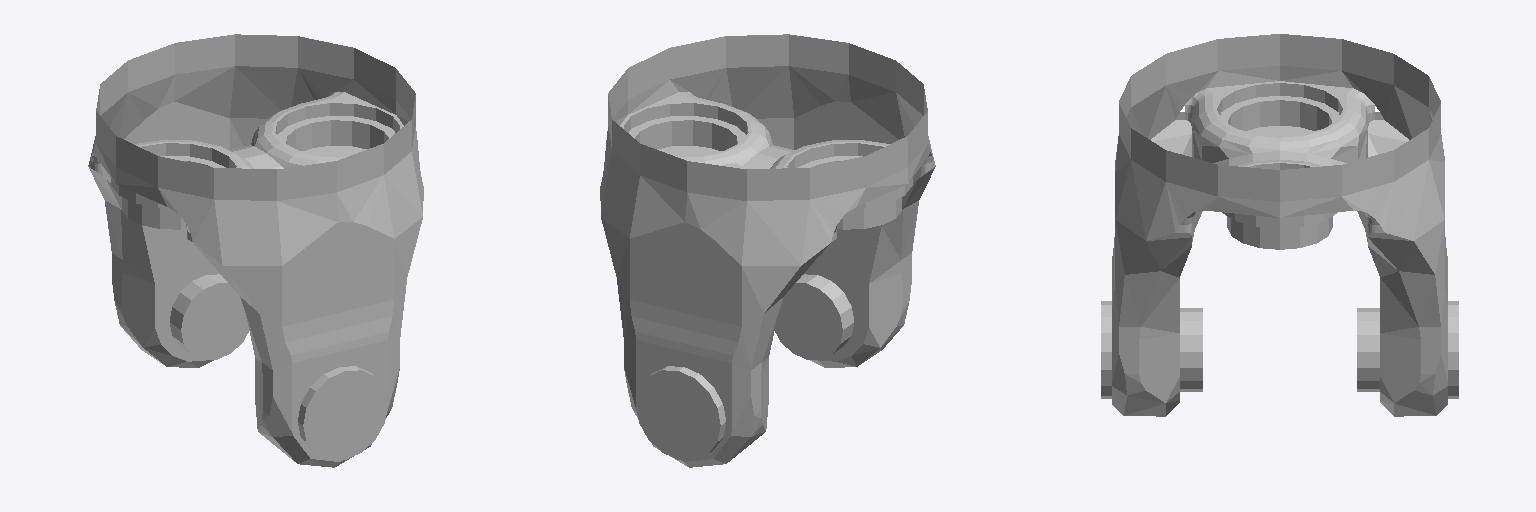
File: geo-7b4c11d9-c12c-46a9-bfe3-5f59d0c5894e.obj
The picture shows the model from 3 angles: view 1: azimuth 30°, elevation 25°; view 2: azimuth 150°, elevation 25°; view 3: azimuth 270°, elevation 25°; orthographic projection.
Visible parts, largest first — view 1: 0; view 2: 0; view 3: 0.
Part boxes in pixels (x1,y1,x2,y2): 0: (88,34,423,467); 0: (600,34,935,467); 0: (1101,34,1458,416).
Bounding box in the file's own units: 46.31 × 48.5 × 51.2.